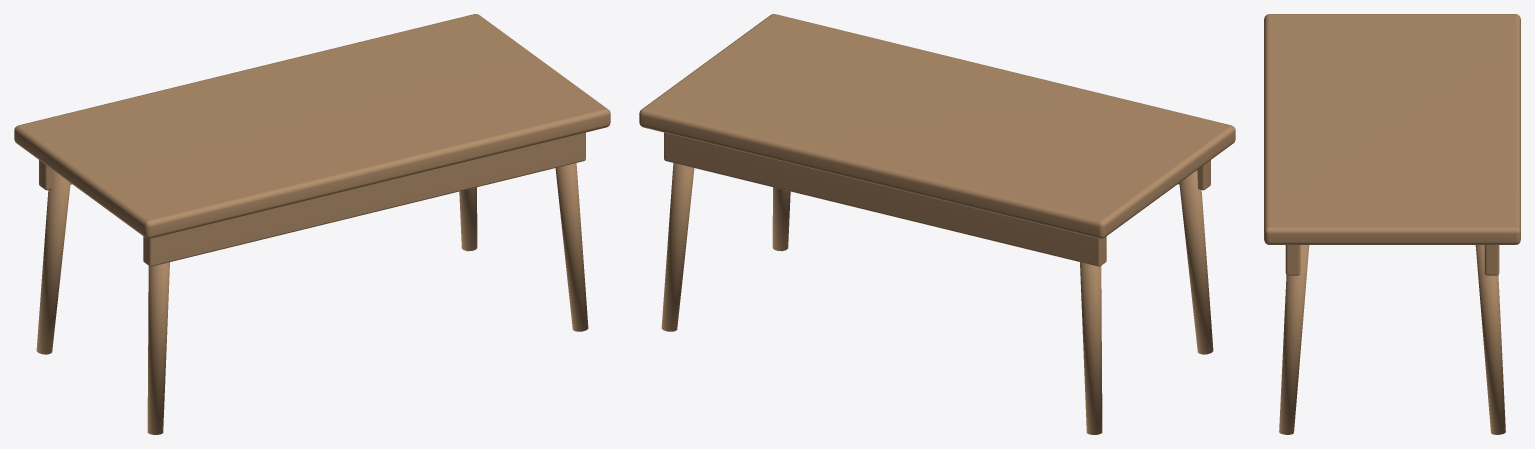
Rendered from atelier-craft-table.glb.
The picture shows the model from 3 angles, left to right: view 1: azimuth 30°, elevation 25°; view 2: azimuth 150°, elevation 25°; view 3: azimuth 270°, elevation 25°; orthographic projection. The views are drawn at different scales.
Visible parts, largest first — view 1: legs.046; view 2: legs.046; view 3: legs.046.
Part boxes in pixels (x1,y1,x2,y2): legs.046: [14, 14, 610, 434]; legs.046: [639, 14, 1235, 434]; legs.046: [1264, 14, 1520, 434].
Size of the model in its own units: 1.6 by 0.732 by 0.8.
